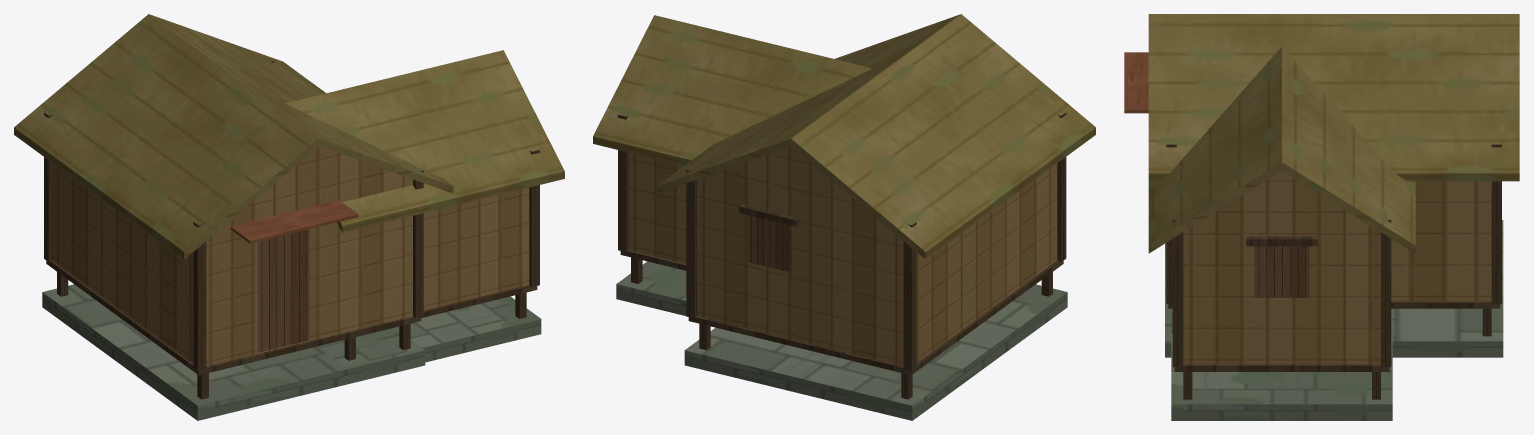
The model's file is ae_jungle_wood_medium_l_lod1.glb.
The picture shows the model from 3 angles, left to right: view 1: azimuth 30°, elevation 25°; view 2: azimuth 150°, elevation 25°; view 3: azimuth 270°, elevation 25°; orthographic projection. The views are drawn at different scales.
Visible parts, largest first — view 1: ae_jungle_wood_medium_l_lod1; view 2: ae_jungle_wood_medium_l_lod1; view 3: ae_jungle_wood_medium_l_lod1.
Part boxes in pixels (x1,y1,x2,y2): ae_jungle_wood_medium_l_lod1: [14, 14, 564, 420]; ae_jungle_wood_medium_l_lod1: [593, 14, 1095, 420]; ae_jungle_wood_medium_l_lod1: [1124, 14, 1519, 420].
Size of the model in its own units: 7.35 by 4.8 by 6.08.
Materials: 1 (1 with a texture image).
